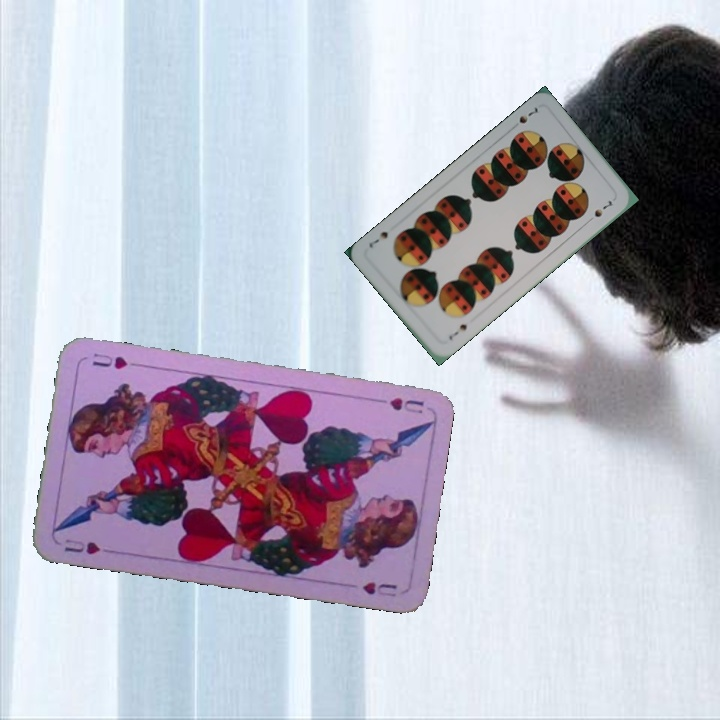HU: (385, 393, 427, 416), (60, 535, 103, 557)
S7: (507, 103, 540, 133), (445, 320, 470, 343)
